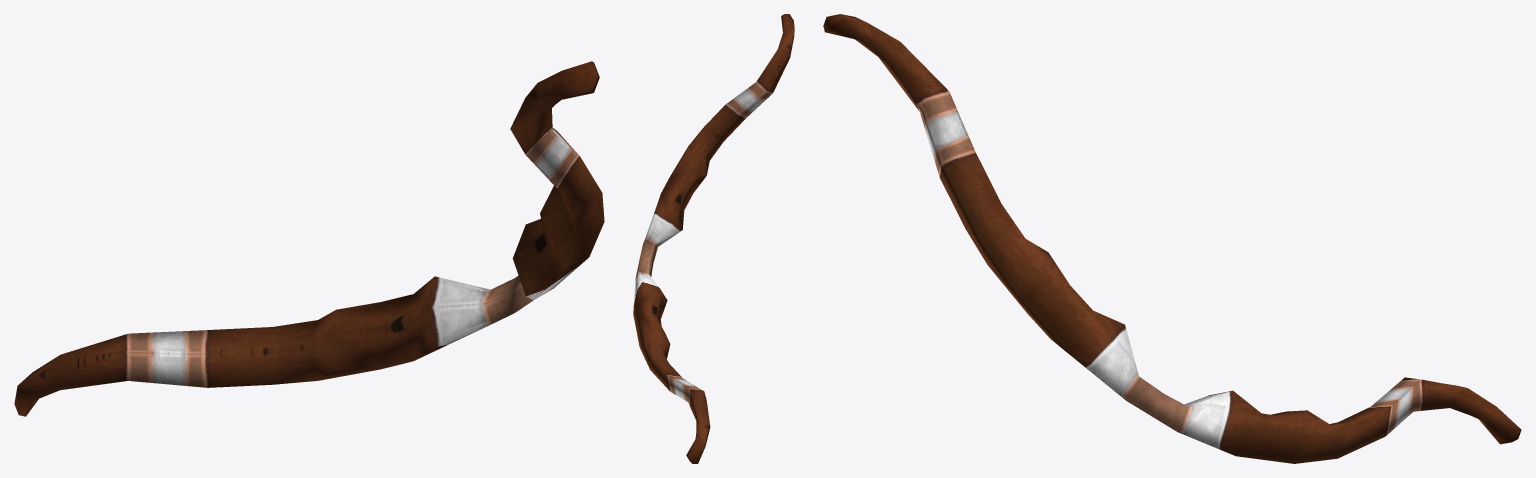
The model's file is bow-base.glb.
3 renders of one model, left to right at view 1: azimuth 30°, elevation 25°; view 2: azimuth 150°, elevation 25°; view 3: azimuth 270°, elevation 25°, orthographic. The views are drawn at different scales.
Size of the model in its own units: 0.4793 by 0.7924 by 0.9728.
1 material, 1 textured.
